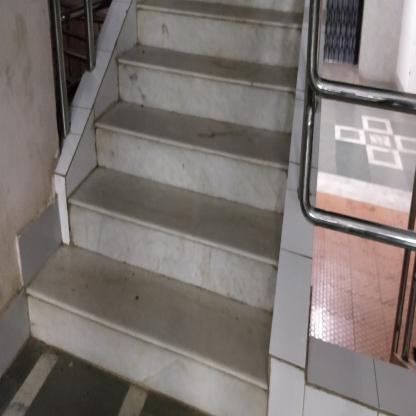stairs: (119, 45, 253, 416)
